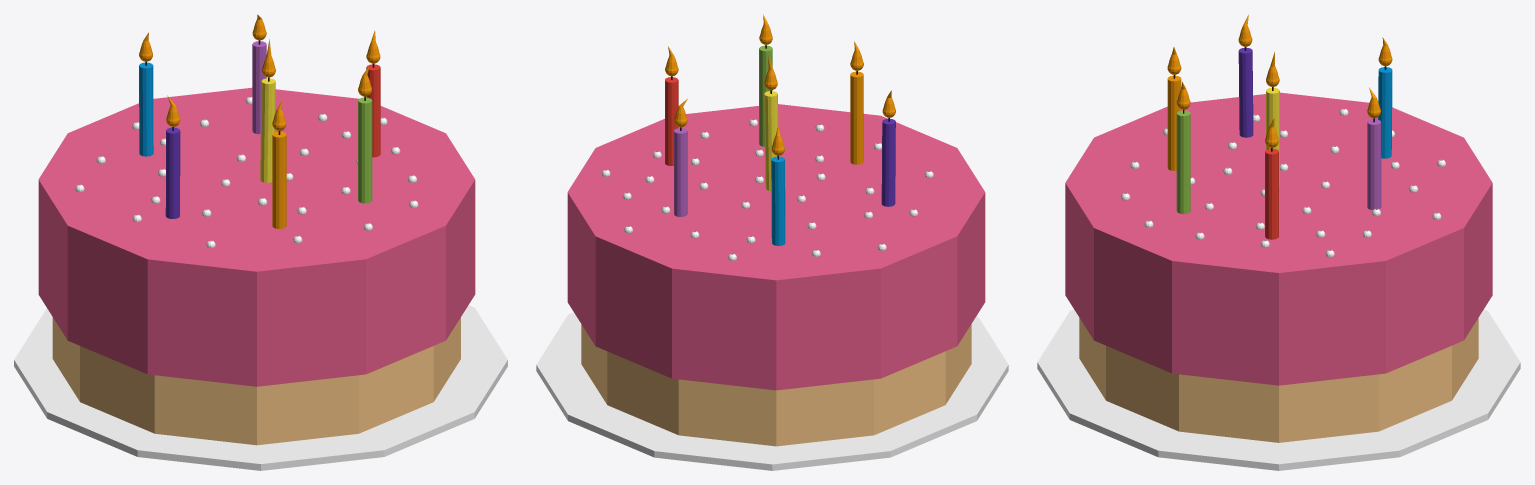
Rendered from mode.gltf.
3 views of the same model, side by side, from view 1: azimuth 30°, elevation 25°; view 2: azimuth 150°, elevation 25°; view 3: azimuth 270°, elevation 25° (orthographic). The views are drawn at different scales.
Visible parts, largest first — view 1: group1157025382, group1753841854, group26760615, group407686768, group1452395530, group702158516, group474354827, group1711277926, group1226348779, group398001595; view 2: group1157025382, group1753841854, group26760615, group474354827, group1452395530, group1711277926, group1226348779, group702158516, group398001595, group407686768; view 3: group1157025382, group1753841854, group26760615, group407686768, group1226348779, group1711277926, group398001595, group474354827, group1452395530, group702158516.
Part boxes in pixels (x1=…): group1157025382: x1=38, y1=87, x2=475, y2=386; group1753841854: x1=52, y1=317, x2=460, y2=445; group26760615: x1=14, y1=305, x2=507, y2=470; group407686768: x1=358, y1=97, x2=372, y2=203; group1452395530: x1=272, y1=131, x2=286, y2=228; group702158516: x1=260, y1=78, x2=275, y2=182; group474354827: x1=139, y1=62, x2=153, y2=156; group1711277926: x1=165, y1=127, x2=180, y2=218; group1226348779: x1=252, y1=41, x2=266, y2=134; group398001595: x1=366, y1=64, x2=380, y2=157; group1157025382: x1=567, y1=104, x2=985, y2=390; group1753841854: x1=581, y1=324, x2=971, y2=446; group26760615: x1=536, y1=312, x2=1008, y2=470; group474354827: x1=771, y1=156, x2=785, y2=245; group1452395530: x1=850, y1=71, x2=863, y2=164; group1711277926: x1=881, y1=119, x2=895, y2=206; group1226348779: x1=674, y1=128, x2=687, y2=216; group702158516: x1=764, y1=91, x2=778, y2=190; group398001595: x1=665, y1=77, x2=678, y2=165; group407686768: x1=759, y1=45, x2=772, y2=146; group1157025382: x1=1065, y1=92, x2=1492, y2=385; group1753841854: x1=1079, y1=318, x2=1478, y2=442; group26760615: x1=1037, y1=309, x2=1520, y2=470; group407686768: x1=1176, y1=110, x2=1190, y2=214; group1226348779: x1=1367, y1=119, x2=1381, y2=209; group1711277926: x1=1238, y1=47, x2=1253, y2=137; group398001595: x1=1265, y1=148, x2=1278, y2=239; group474354827: x1=1378, y1=67, x2=1392, y2=158; group1452395530: x1=1167, y1=75, x2=1181, y2=170; group702158516: x1=1266, y1=87, x2=1279, y2=186.
Size of the model in its own units: 1.04 by 0.7622 by 1.04.
